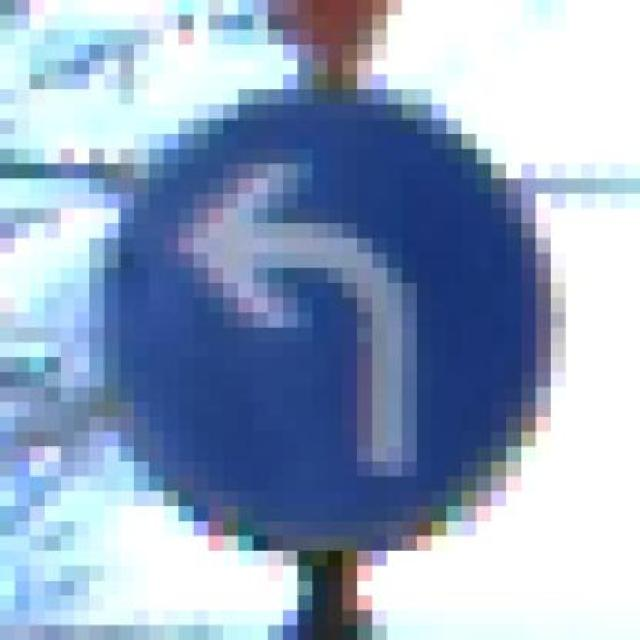Turn left ahead: (74, 89, 566, 551)
